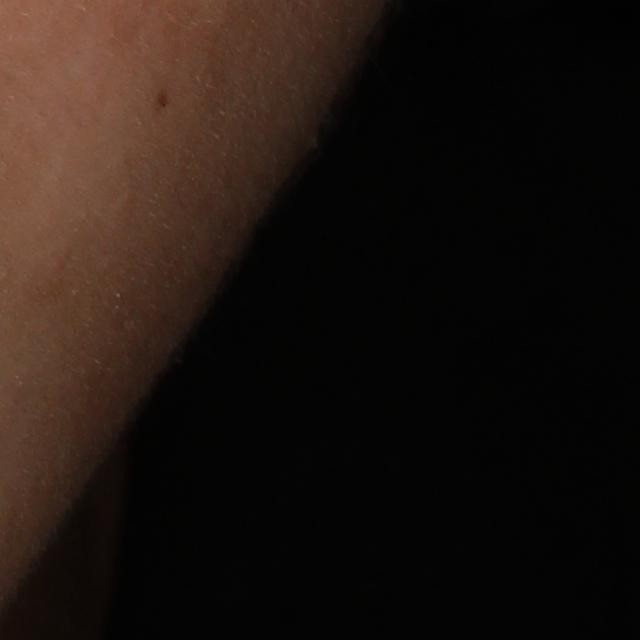nevus: (156, 91, 169, 111)
